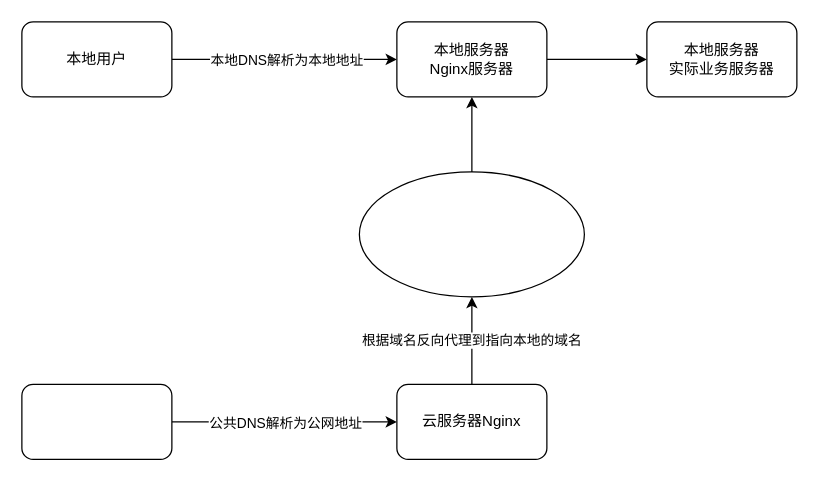
This 819x481 diagram has some shape labels left out. The shapes that lost their labels are listed below. From the top down, each one's centre as x and y in pixels, then its label:
At (471,234): "通过DDNS得到始终解析到本地服务器公网IP的域名".
At (96,421): "外网用户".
